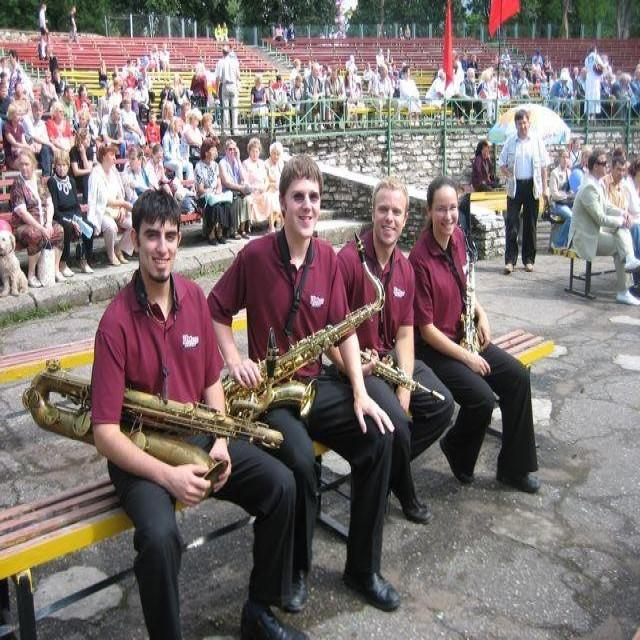saxophone: (18, 352, 290, 486), (213, 228, 388, 418)
